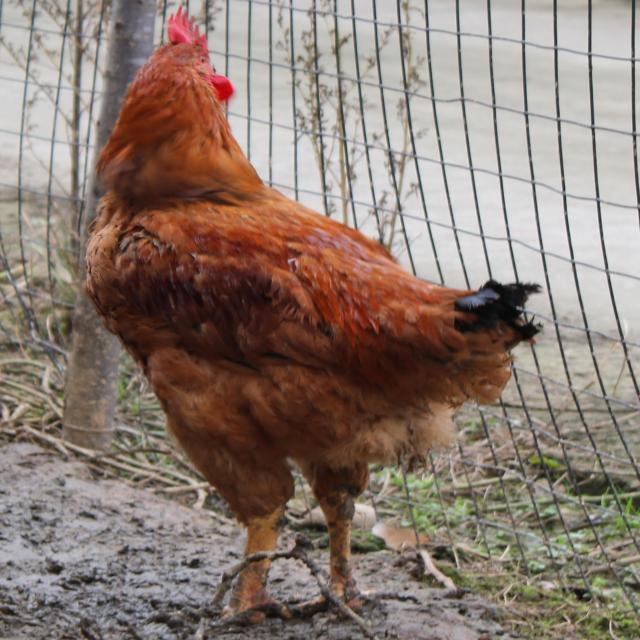cook: (0, 8, 580, 627)
